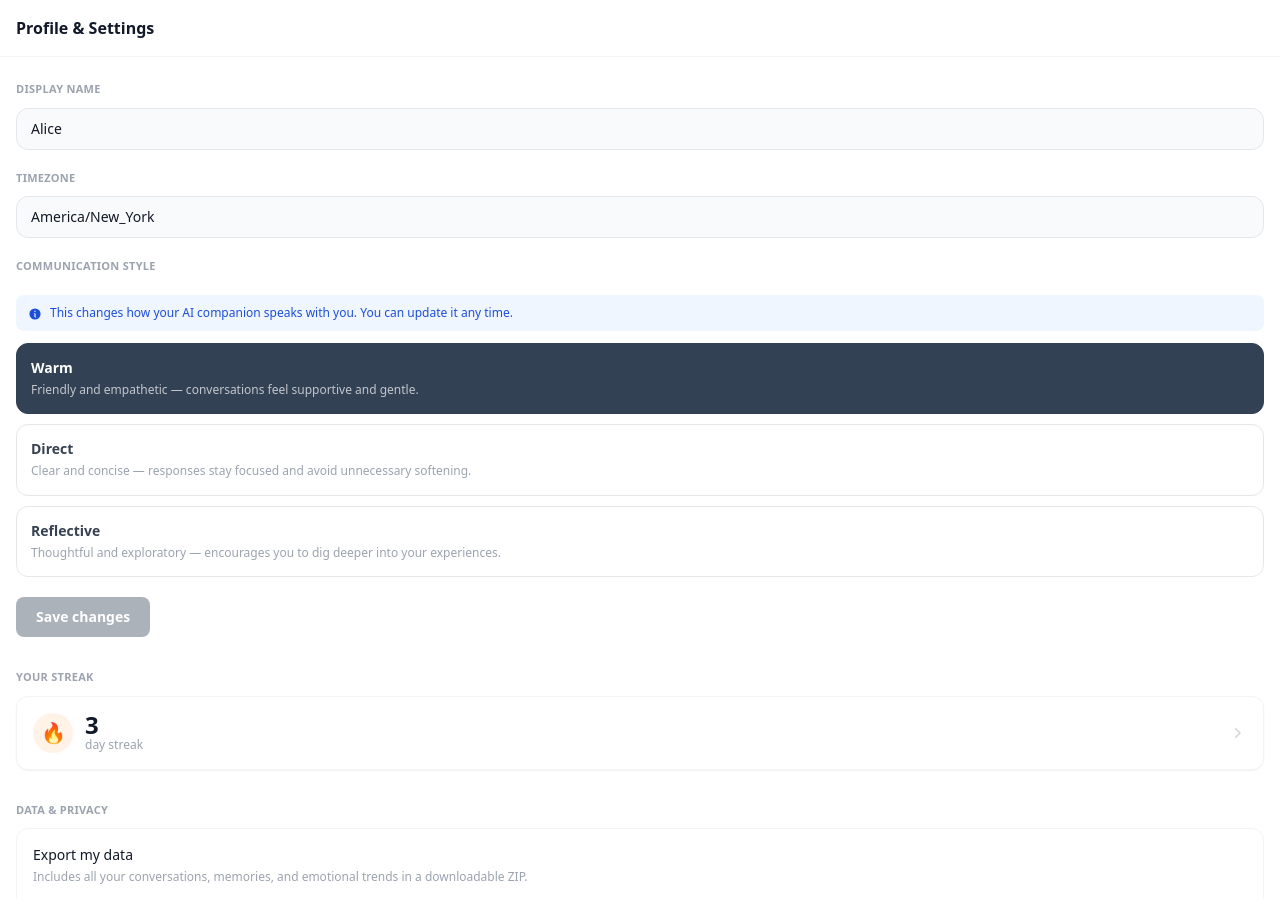
Test case: SettingsScreen — save › shows inline "Saved" confirmation after successful save
Replace the text in the field named "display name" with "Bob" at coordinates (640, 128), box top-left (16, 108), bottom-right (1264, 150)
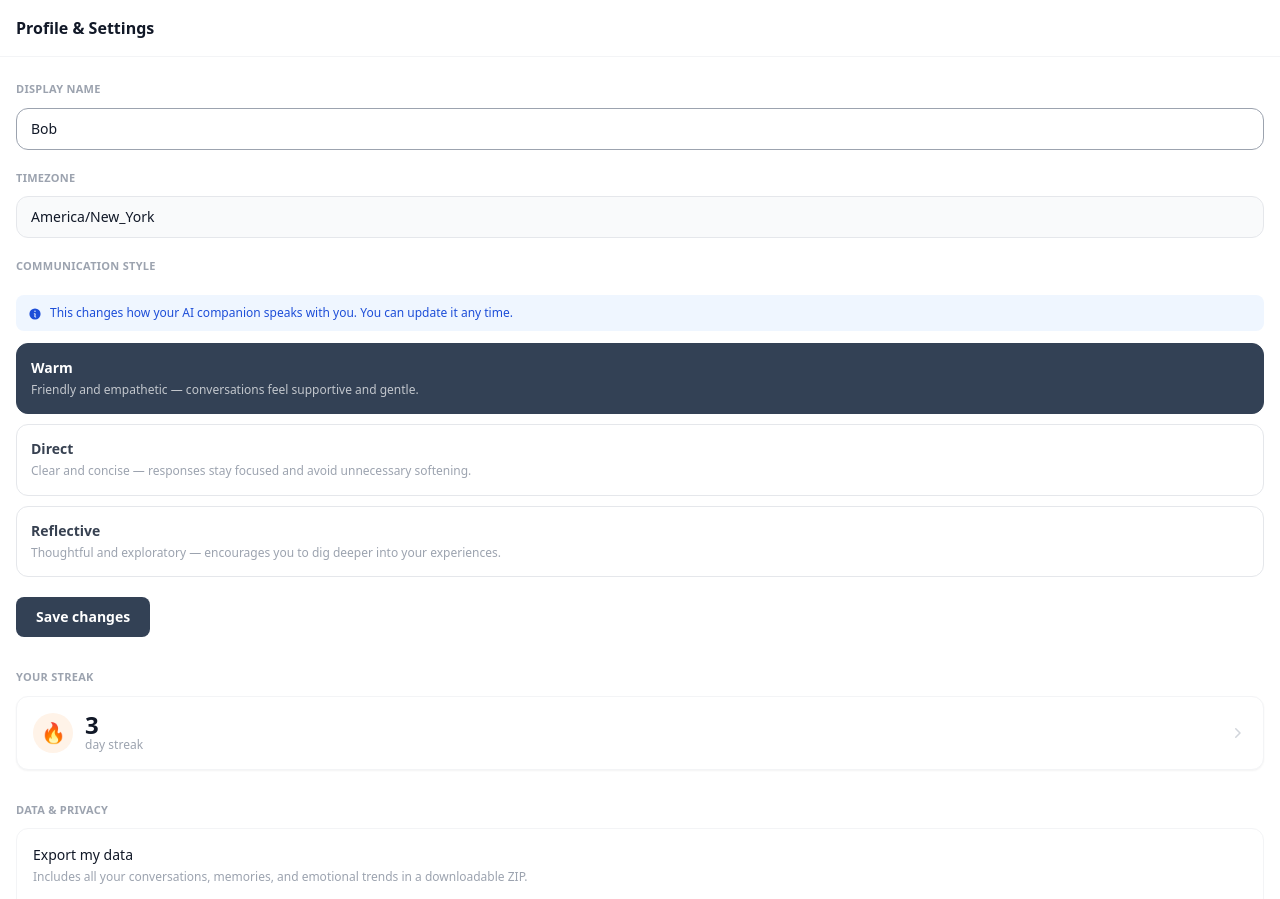
Click the button "Save changes" at coordinates (83, 617), box top-left (16, 597), bottom-right (150, 637)
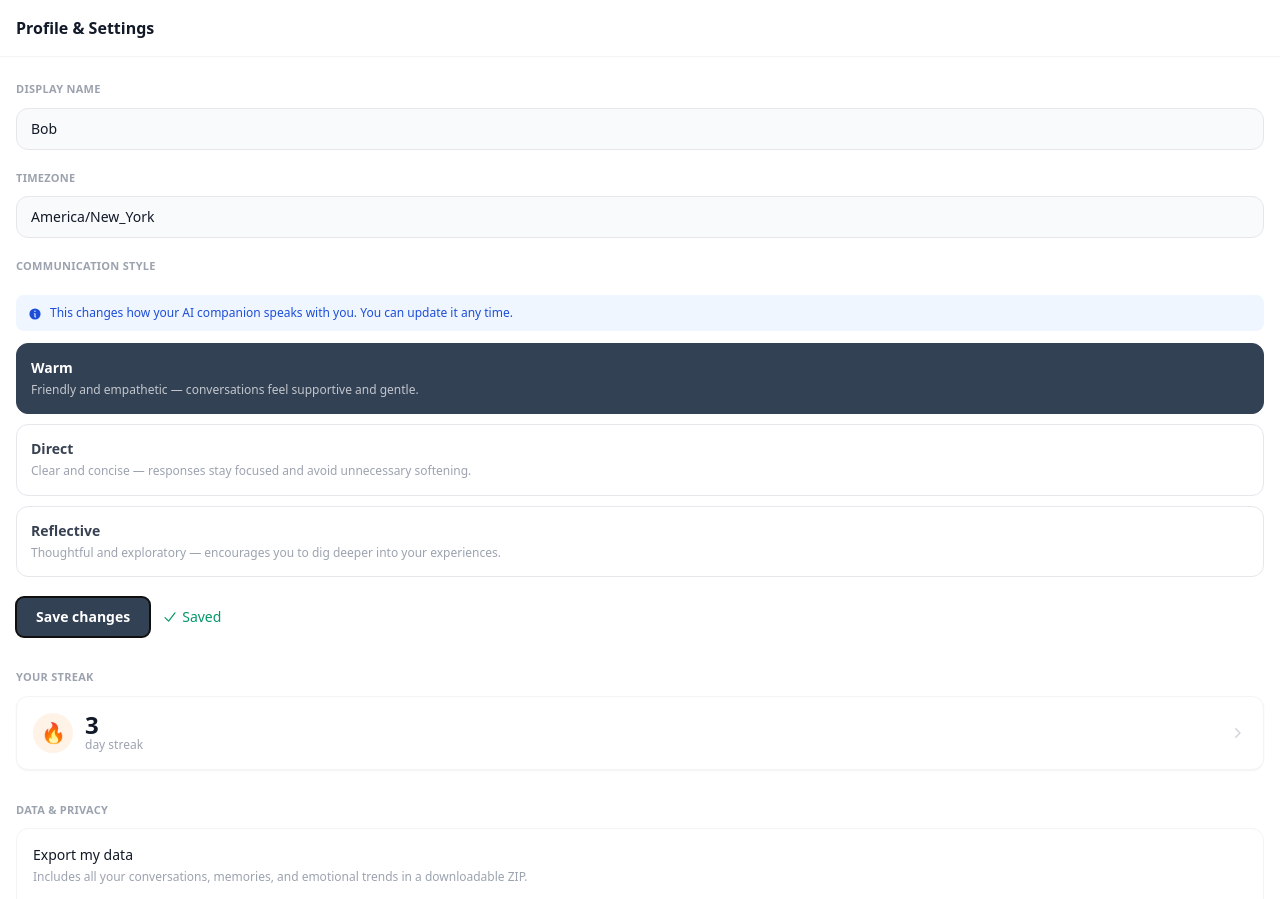
Check: the message reads "Saved", box top-left (182, 607), bottom-right (221, 626)
